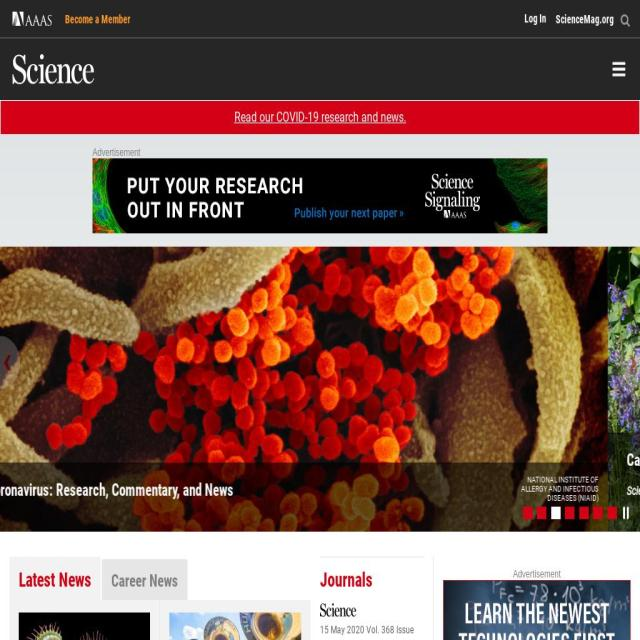button: (0, 246, 640, 532), (10, 556, 100, 601), (102, 558, 187, 601), (13, 54, 95, 84), (65, 13, 131, 26), (556, 12, 614, 26), (621, 16, 635, 27)
heading: (18, 480, 266, 501), (320, 569, 424, 590)
iframe: (92, 158, 548, 234), (443, 579, 631, 640)
image: (0, 246, 640, 532), (169, 612, 302, 640), (18, 612, 150, 640), (13, 54, 95, 84), (12, 12, 52, 26), (320, 602, 357, 616), (612, 59, 628, 79), (620, 13, 630, 27)
link: (524, 13, 546, 25)
text: (92, 148, 548, 158), (534, 474, 632, 503), (234, 109, 406, 125), (0, 636, 640, 640), (443, 568, 631, 580), (320, 623, 414, 640), (0, 335, 20, 389), (620, 335, 640, 389), (320, 623, 365, 636), (621, 505, 631, 520)
